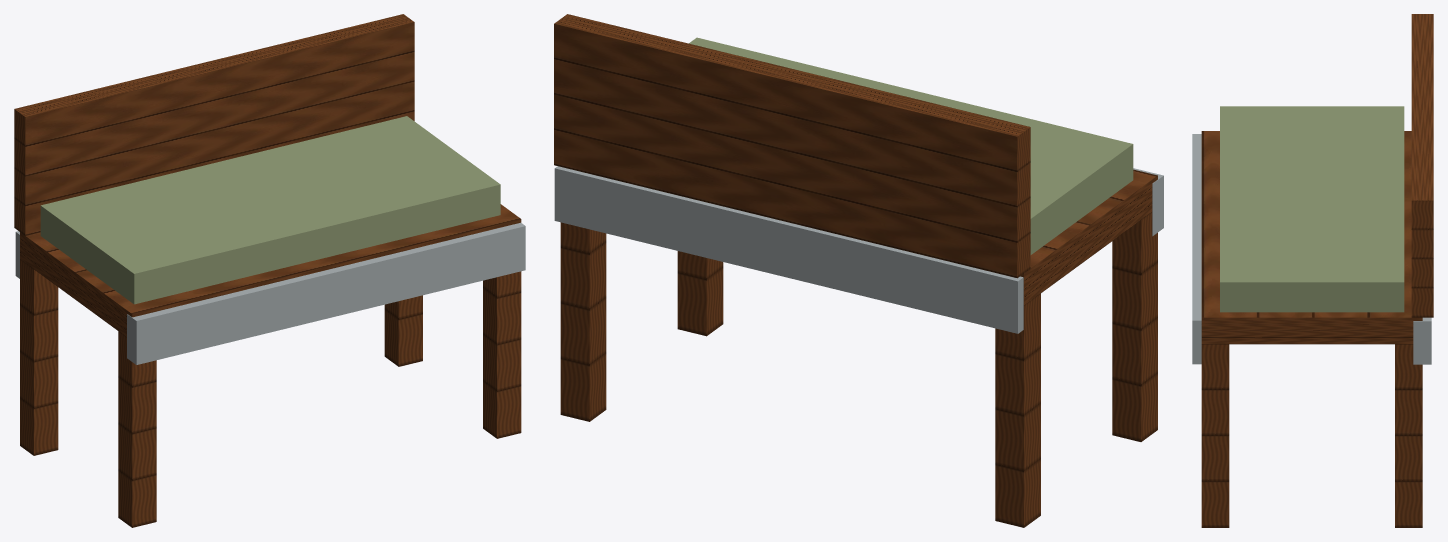
The model's file is rural-scavenging-settlements-corner-settle-b25f117e__26583.glb.
The picture shows the model from 3 angles, left to right: view 1: azimuth 30°, elevation 25°; view 2: azimuth 150°, elevation 25°; view 3: azimuth 270°, elevation 25°; orthographic projection. The views are drawn at different scales.
Visible parts, largest first — view 1: corner-settle; view 2: corner-settle; view 3: corner-settle.
Part boxes in pixels (left/top/right/bottom): corner-settle: left=14, top=14, right=525, bottom=527; corner-settle: left=554, top=14, right=1163, bottom=527; corner-settle: left=1192, top=14, right=1433, bottom=527.
Size of the model in its own units: 1.2 by 0.98 by 0.655.
3 materials, 1 textured.
